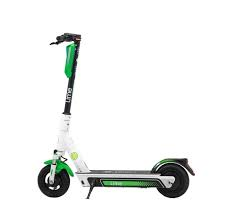kick_board: (36, 33, 194, 198)
kick_body: (86, 170, 155, 187)
kick_handler: (50, 33, 83, 45)
kick_neck: (62, 45, 77, 149)
kick_wheel: (156, 163, 189, 198), (38, 163, 71, 197)
